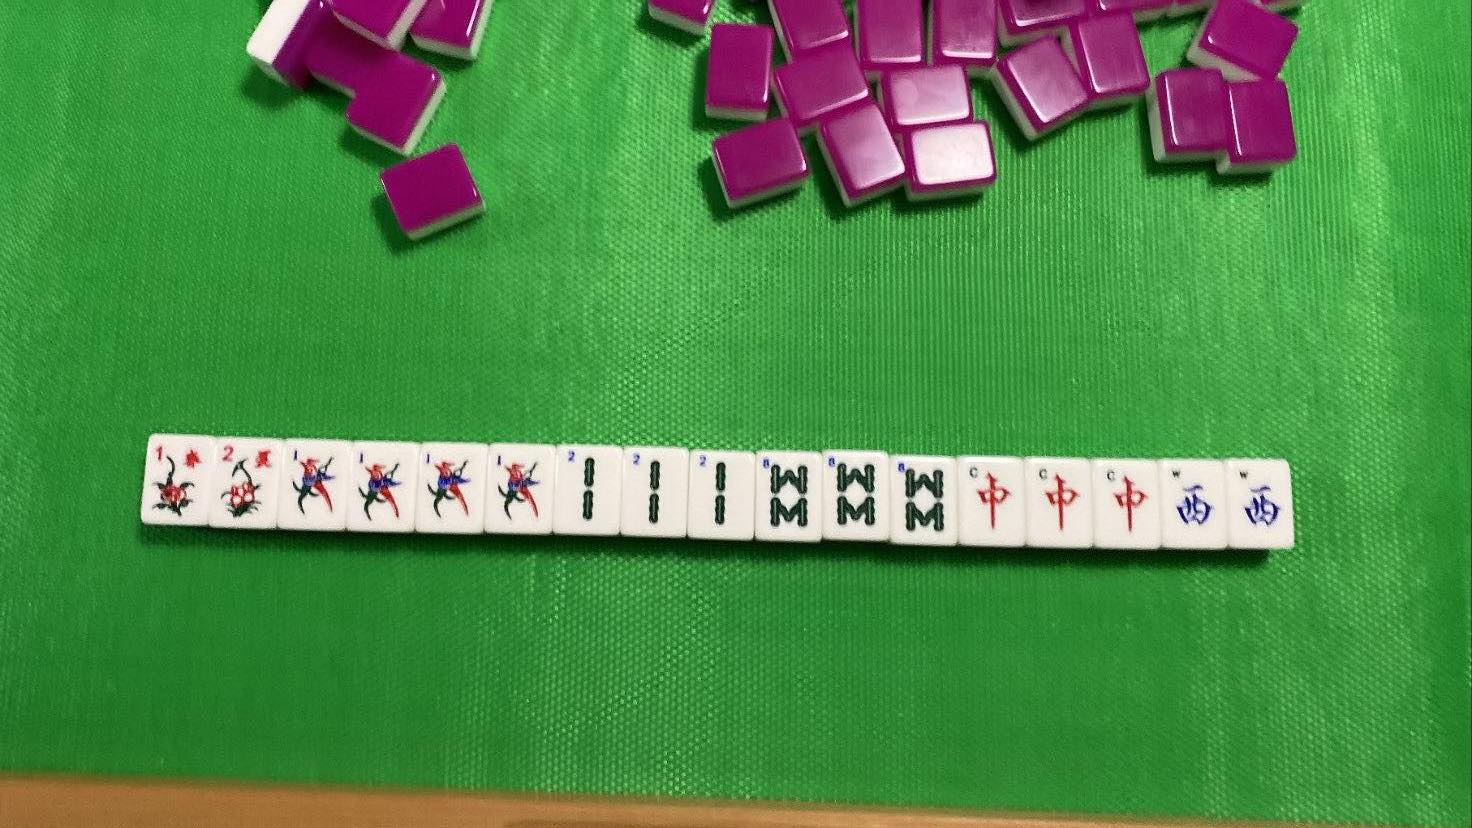bamboo-eight: (759, 452, 816, 534), (896, 458, 953, 537), (829, 455, 883, 528)
bamboo-one: (354, 442, 408, 524), (420, 447, 477, 523), (490, 448, 548, 522), (287, 443, 343, 516)
bamboo-two: (564, 445, 613, 523), (695, 454, 742, 532), (630, 448, 675, 527)
flower-red_one: (151, 440, 205, 520)
flower-red_two: (212, 439, 275, 521)
honor-red_dragon: (1098, 461, 1157, 546), (1031, 462, 1087, 545), (964, 459, 1020, 542)
honor-west_wind: (1229, 462, 1287, 539), (1165, 461, 1218, 541)
